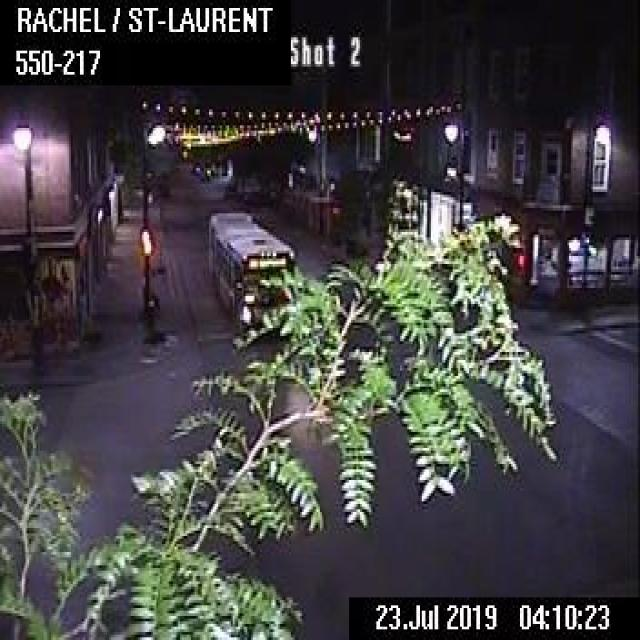bus: (207, 210, 296, 339)
